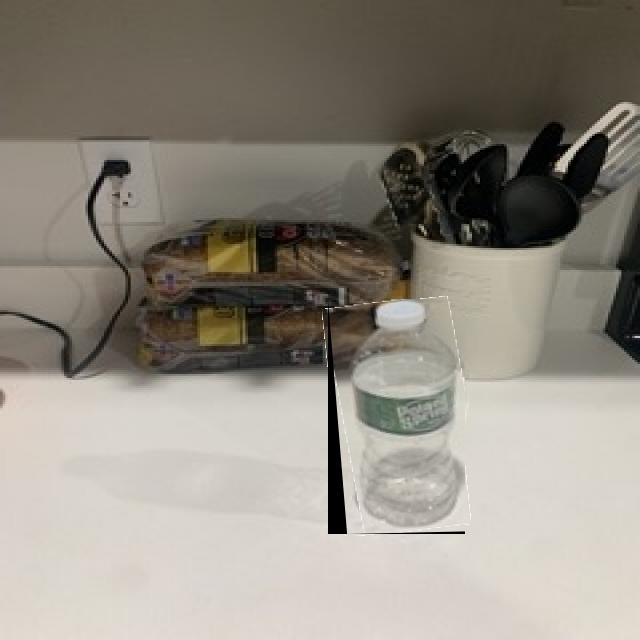water_bottle: (328, 299, 465, 534)
